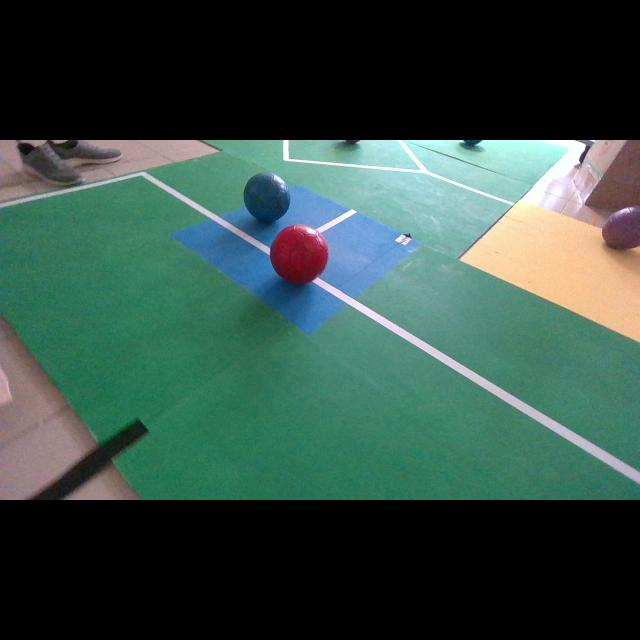B: (244, 172, 290, 222)
P: (602, 206, 640, 248)
R: (270, 224, 329, 284)
